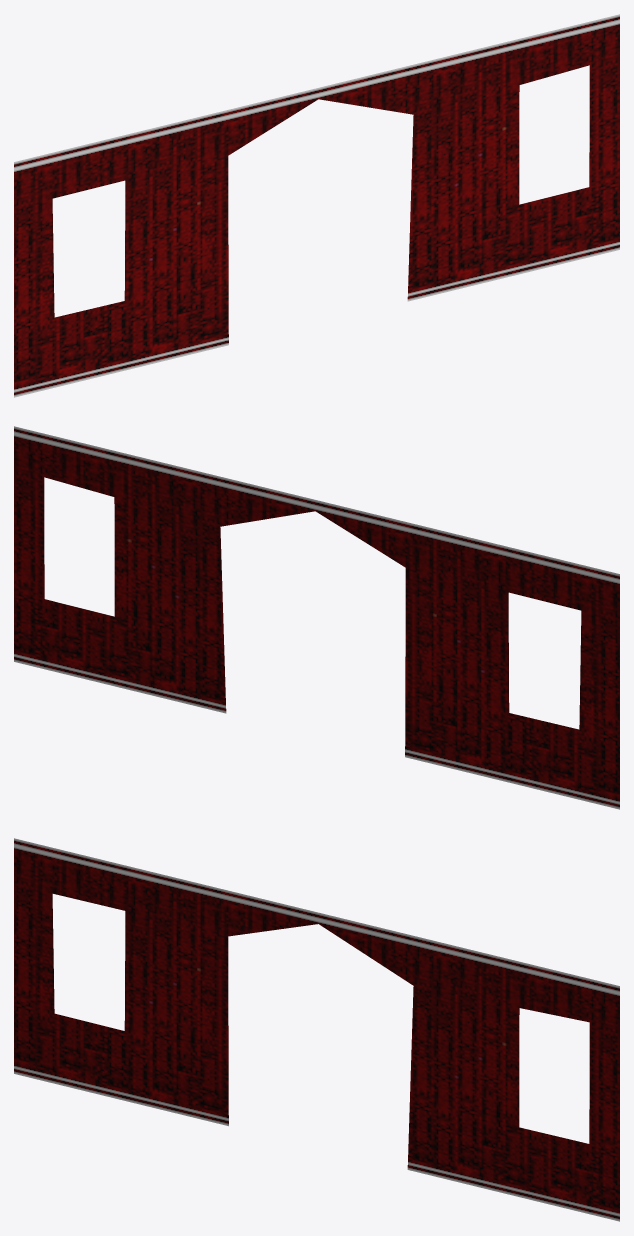
File: W_AI1_fOf [Rot]_2418.glb
3 views of the same model, one above another, from view 1: azimuth 30°, elevation 25°; view 2: azimuth 150°, elevation 25°; view 3: azimuth 330°, elevation 25° (orthographic).
Parts seen in each view (by area): view 1: polySurfaceShape908; view 2: polySurfaceShape908; view 3: polySurfaceShape908.
Part boxes in pixels (<box>): polySurfaceShape908: <box>14,14,619,397</box>; polySurfaceShape908: <box>14,426,619,809</box>; polySurfaceShape908: <box>14,838,619,1221</box>.
Size of the model in its own units: 0.9385 by 0.3486 by 1.52e-08.
Materials: 1 (1 with a texture image).
